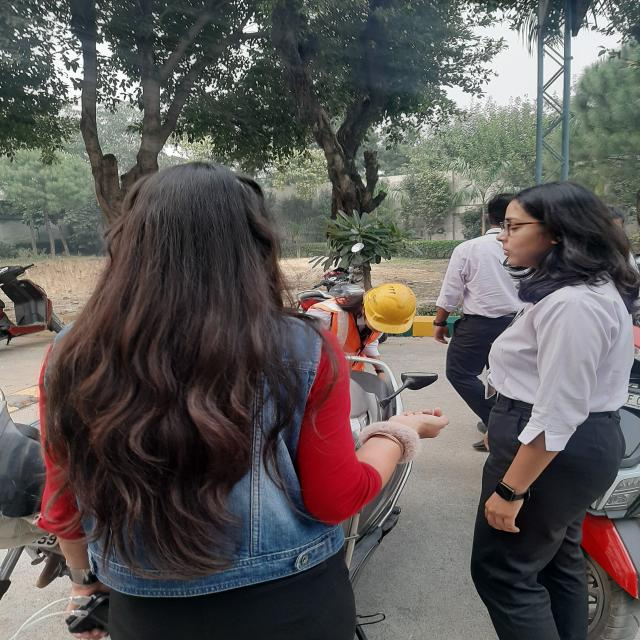unsafe: (43, 157, 427, 640), (472, 176, 640, 640), (432, 190, 532, 469)
